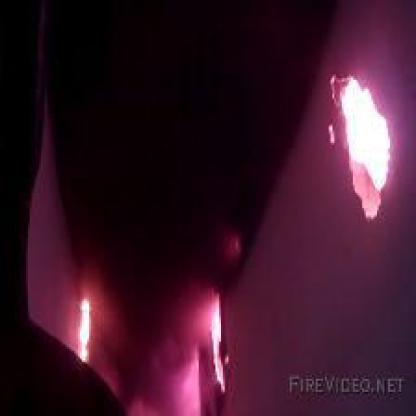fire: (320, 76, 395, 192), (197, 284, 235, 389), (74, 291, 93, 364)
